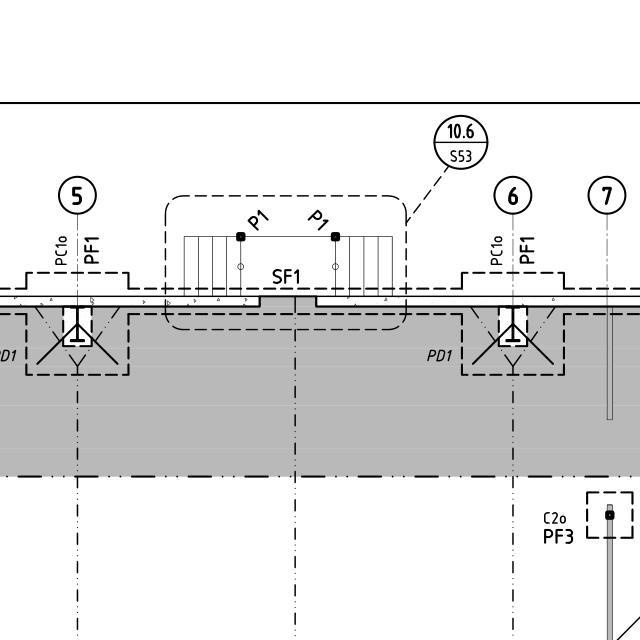P1: (300, 198, 331, 231), (241, 201, 273, 230)
PF1: (77, 226, 108, 263), (519, 231, 544, 266)
PF3: (537, 518, 580, 550)
SF1: (267, 260, 309, 285)
